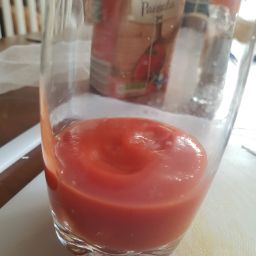Tomato paste: (42, 113, 218, 237)
